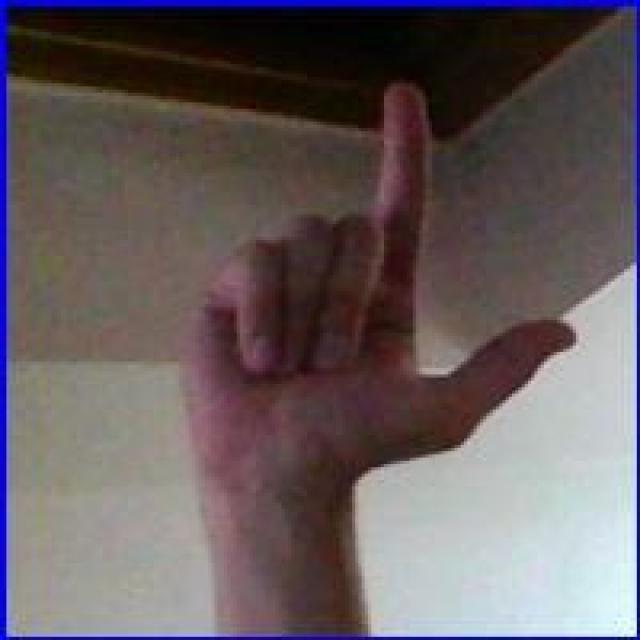L: (186, 75, 576, 491)
